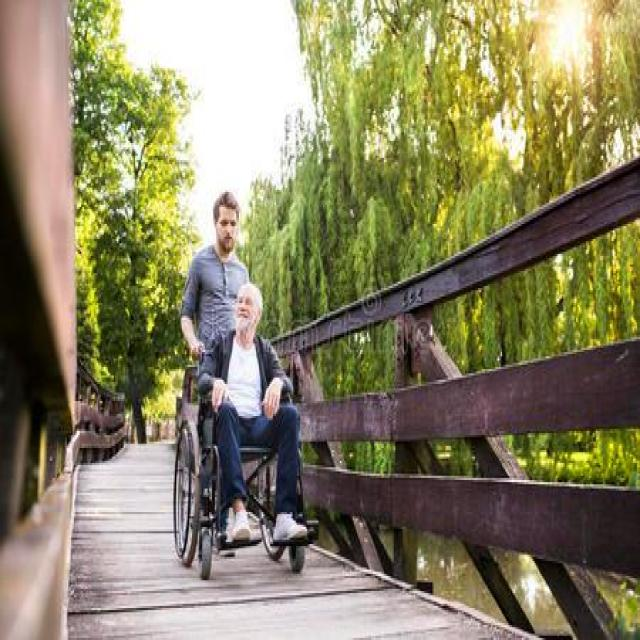wheelchairs: (169, 344, 309, 579)
